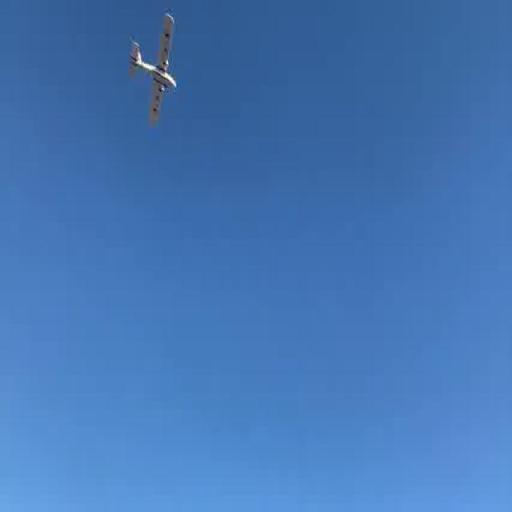uav: (126, 8, 182, 136)
